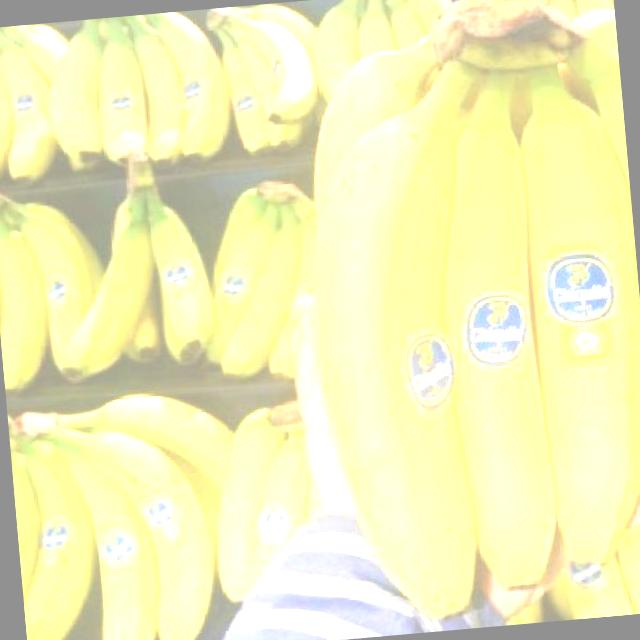Banana: (290, 0, 640, 612), (7, 386, 253, 640), (41, 152, 219, 394), (35, 9, 226, 172), (194, 176, 330, 382), (0, 173, 115, 394), (202, 400, 326, 592), (202, 0, 323, 159), (310, 0, 455, 107), (0, 21, 76, 179)
